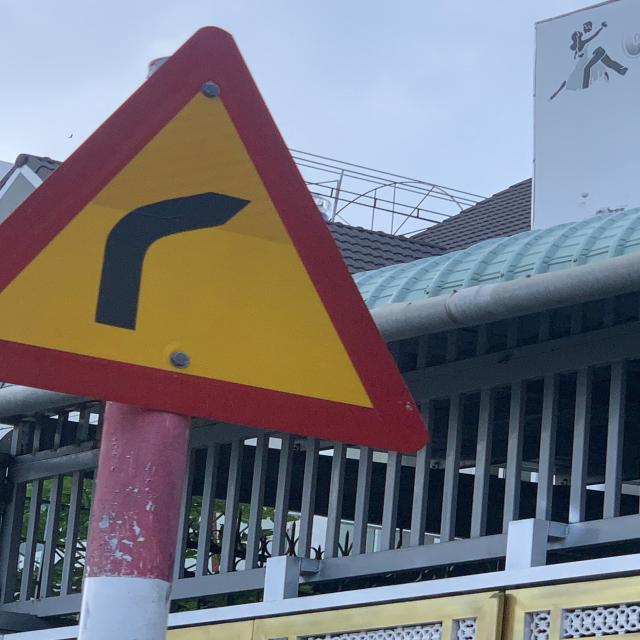Duong_Nguoi_Di_Bo_Cat_Ngang: (0, 23, 430, 456)
